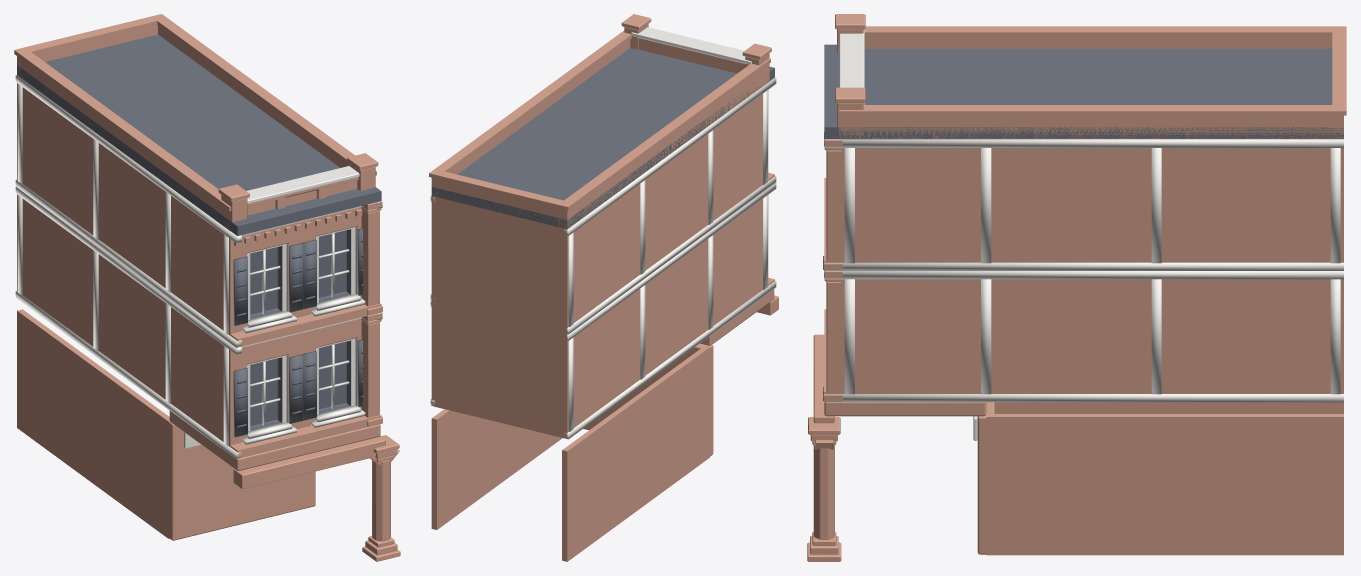
The model's file is dihua-min.glb.
The picture shows the model from 3 angles, left to right: view 1: azimuth 30°, elevation 25°; view 2: azimuth 150°, elevation 25°; view 3: azimuth 270°, elevation 25°; orthographic projection. The views are drawn at different scales.
Parts seen in each view (by area): view 1: main, crest, storey; view 2: main, storey, crest; view 3: main, storey, crest.
Boxes of the visible parts, bbox=[...] form: main: bbox=[15, 187, 400, 561]; crest: bbox=[14, 14, 381, 246]; storey: bbox=[15, 75, 382, 347]; main: bbox=[430, 183, 778, 561]; storey: bbox=[430, 77, 776, 334]; crest: bbox=[429, 14, 774, 229]; main: bbox=[807, 271, 1343, 561]; storey: bbox=[823, 132, 1343, 270]; crest: bbox=[824, 14, 1346, 138].
Size of the model in its own units: 5.14 by 11.86 by 12.66.
